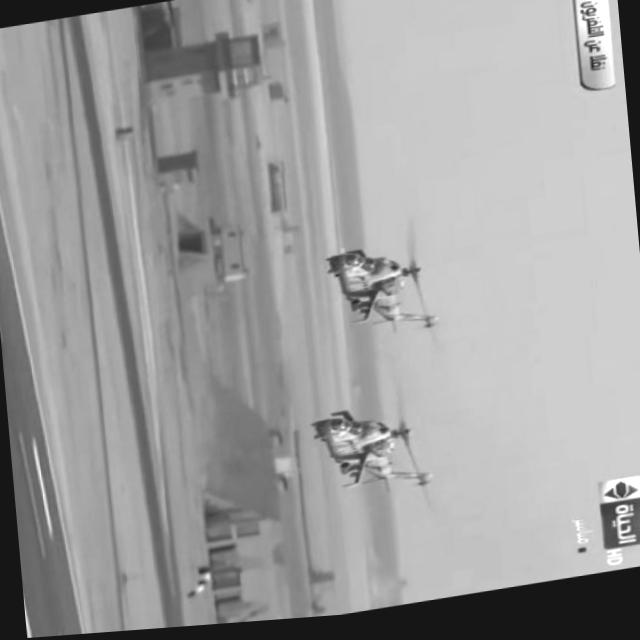helikopter: (303, 384, 451, 525), (315, 232, 447, 352)
